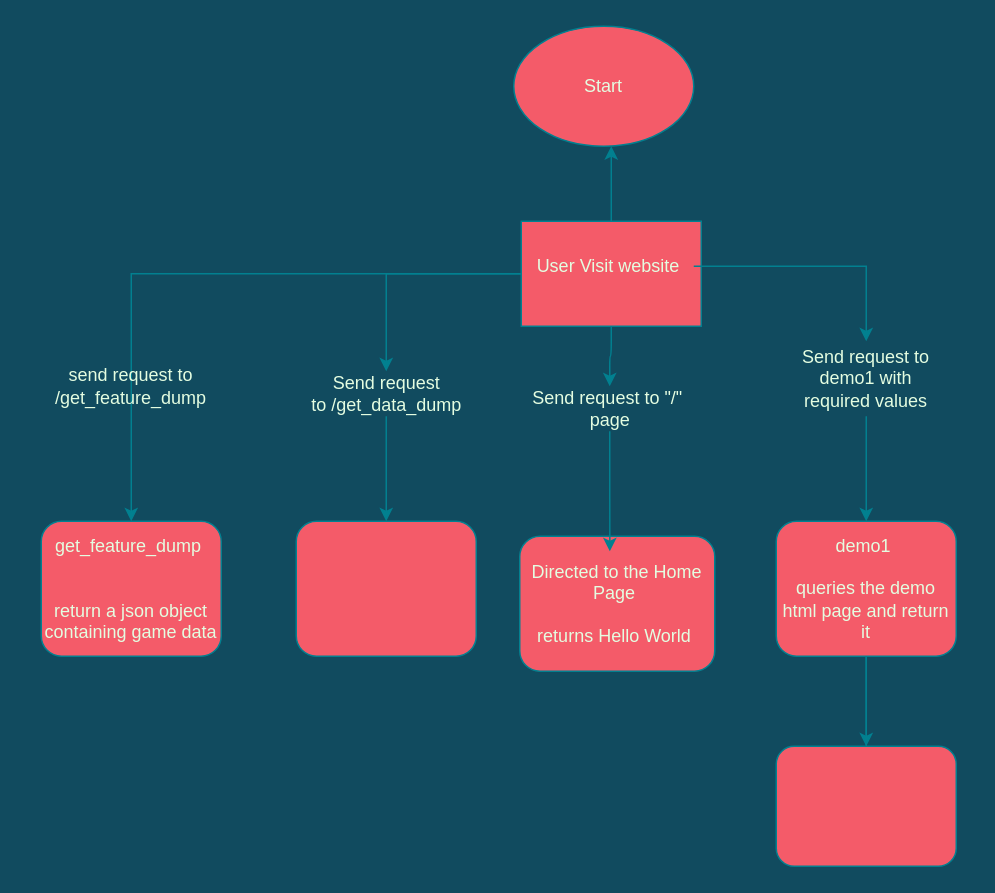
Some shapes in this 995 by 893 pixel diagram are drawn without their labels. Here are the shapes that lost their labels. From the top down, the centre of each, then its label:
At pixel 385 588: "get_data_dump returns a json object of game features.".
At pixel 865 805: "demo html page".
